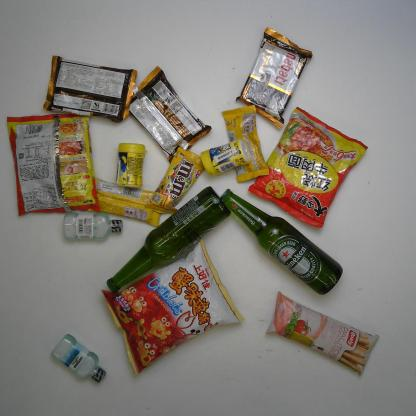Alcohol: (217, 187, 343, 295), (106, 186, 232, 294)
Chocolate: (144, 146, 206, 216), (221, 104, 269, 184), (88, 177, 164, 227)
Dessert: (264, 290, 380, 376), (128, 64, 212, 165), (235, 26, 313, 131), (43, 56, 137, 123)
Gum: (200, 138, 252, 176), (116, 141, 146, 188)
Instant Noodles: (248, 106, 368, 228), (6, 110, 100, 217)
Personal Hygiene: (51, 334, 106, 385), (63, 210, 124, 241)
Puffed Food: (100, 238, 243, 376)
